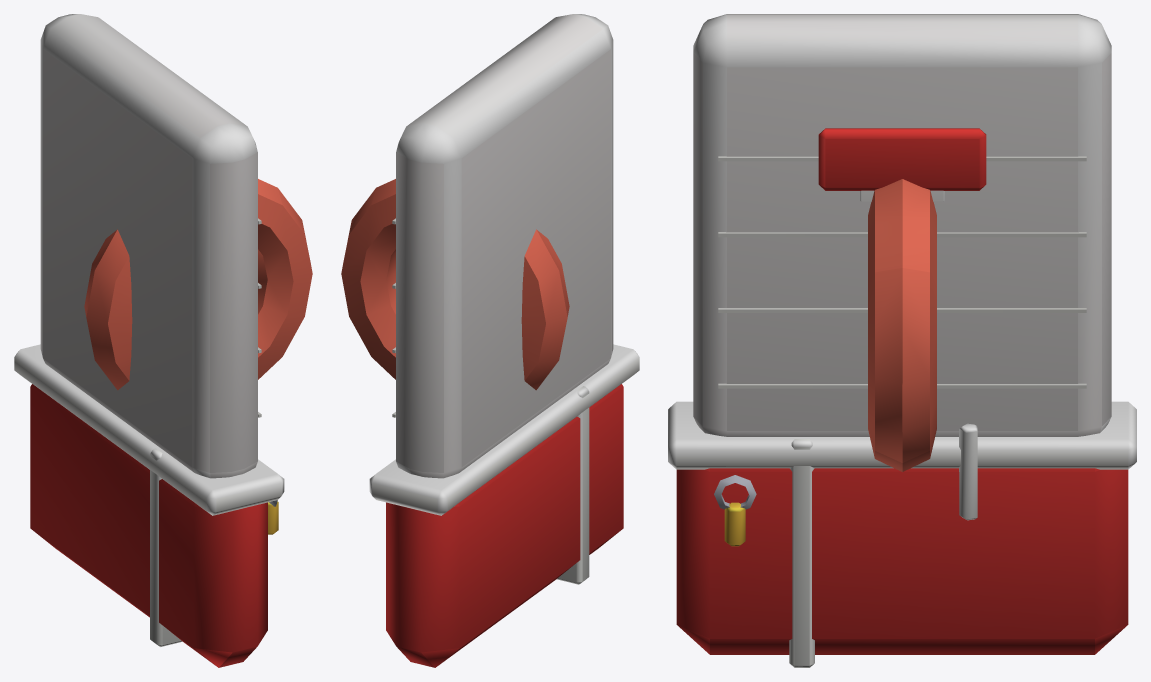
Rendered from SM_Costume_Lifeguard.fbx.
The picture shows the model from 3 angles, left to right: view 1: azimuth 30°, elevation 25°; view 2: azimuth 150°, elevation 25°; view 3: azimuth 270°, elevation 25°; orthographic projection. The views are drawn at different scales.
Parts seen in each view (by area): view 1: SM_Costume_Lifeguard; view 2: SM_Costume_Lifeguard; view 3: SM_Costume_Lifeguard.
Boxes of the visible parts, x1,y1,x2,y2 form: SM_Costume_Lifeguard: (14, 14, 312, 667); SM_Costume_Lifeguard: (341, 14, 639, 667); SM_Costume_Lifeguard: (668, 14, 1136, 667).
Bounding box in the file's own units: 36.46 × 83.04 × 56.06.
